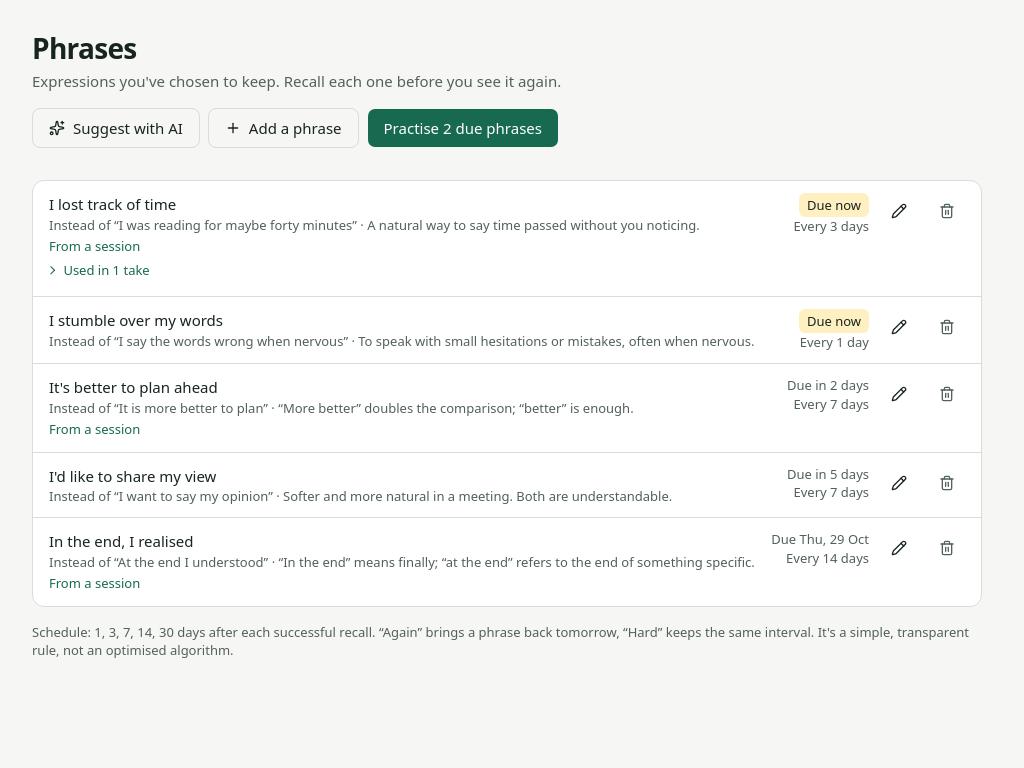
shows where a phrase was used (8.2)
The width and height of the screenshot is (1024, 768).
Check: the text "I lost track of time" is shown, box [49, 194, 176, 214]
What coordinates should you click on to do the following:
click the heading "Used in 1 take"
I would click on:
 (99, 270)
Its box is [49, 256, 150, 284].
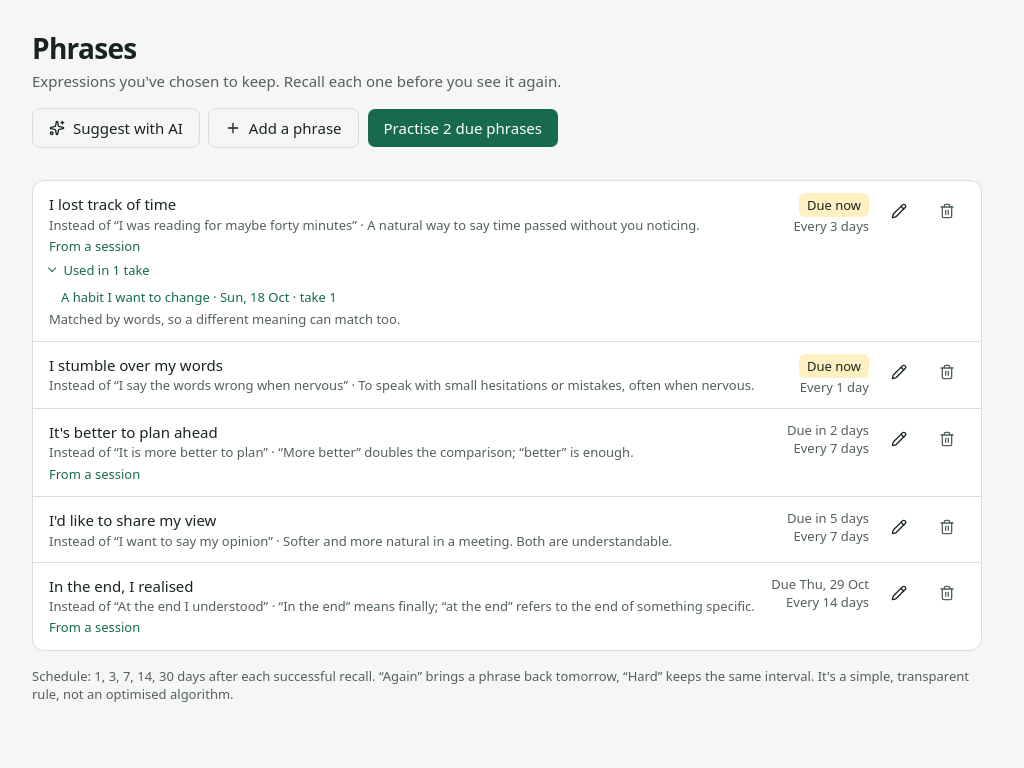
Check: the number of headings "Used in 1 take" is 1, box [49, 256, 150, 284]
Check: the text "Matched by words, so a different meaning can match too." is shown, box [49, 310, 400, 328]
